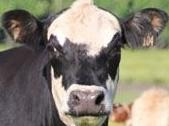muzzles: (61, 83, 111, 125)
